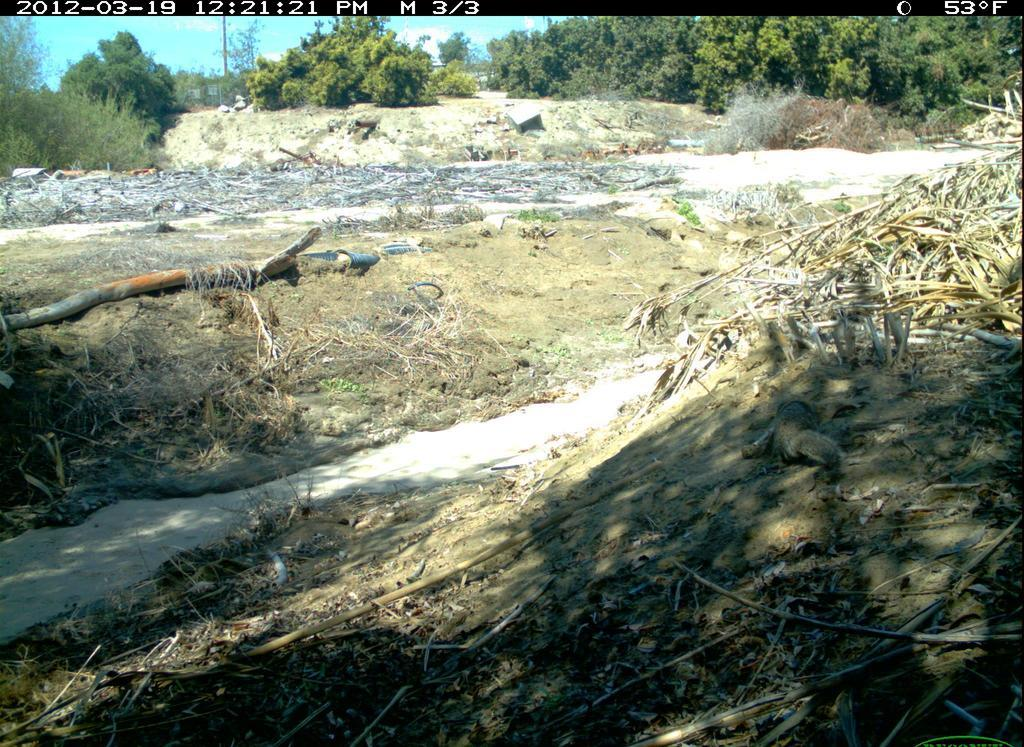squirrel: (742, 383, 870, 492)
